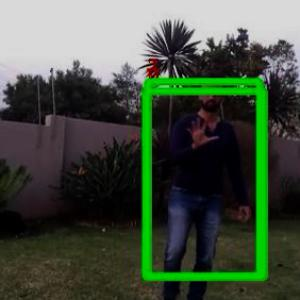follow_hand: (181, 111, 219, 150)
